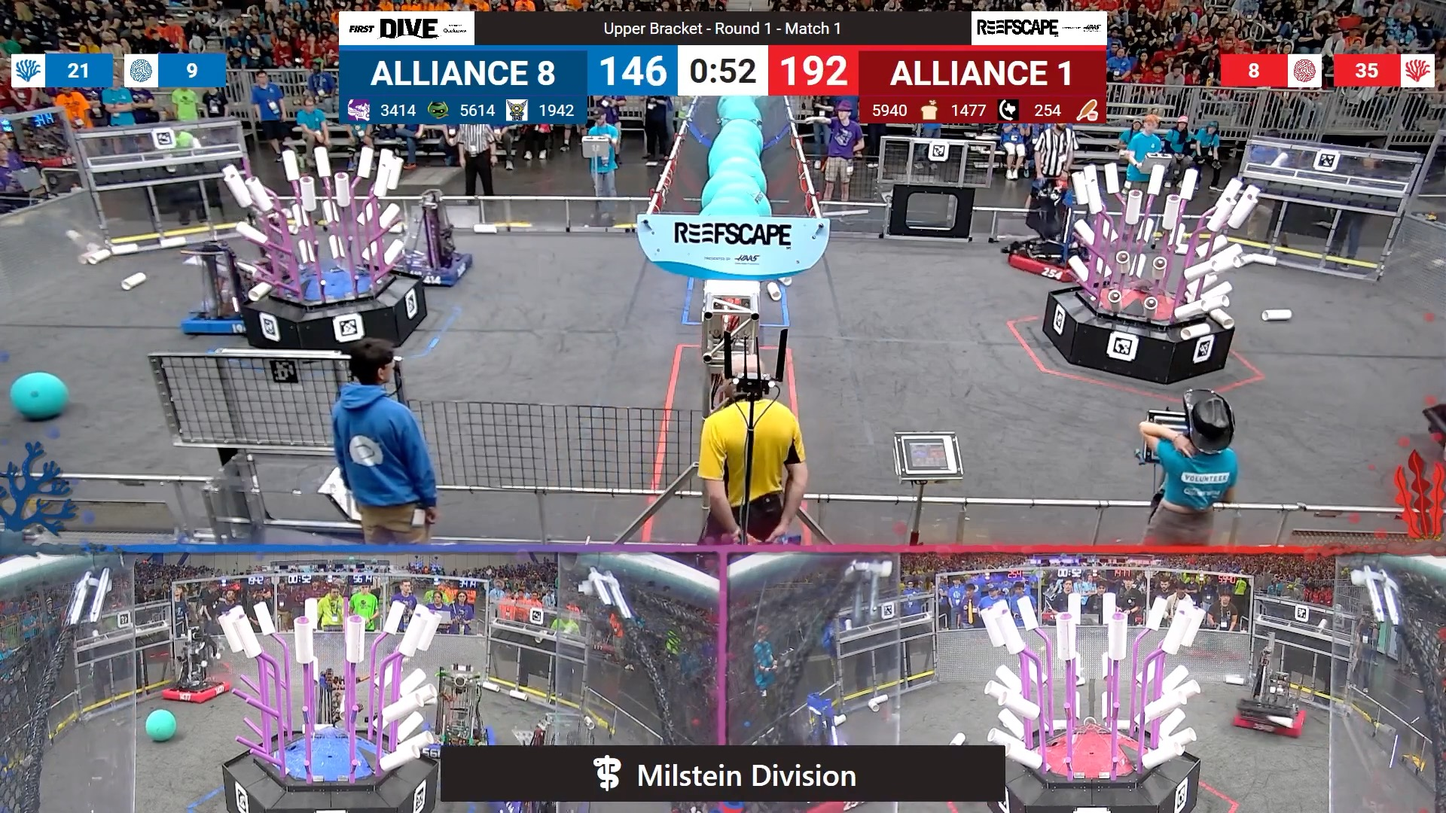bumpers: (1227, 696, 1316, 743), (380, 247, 480, 288), (1001, 244, 1093, 288), (181, 293, 257, 341), (153, 674, 235, 705)
